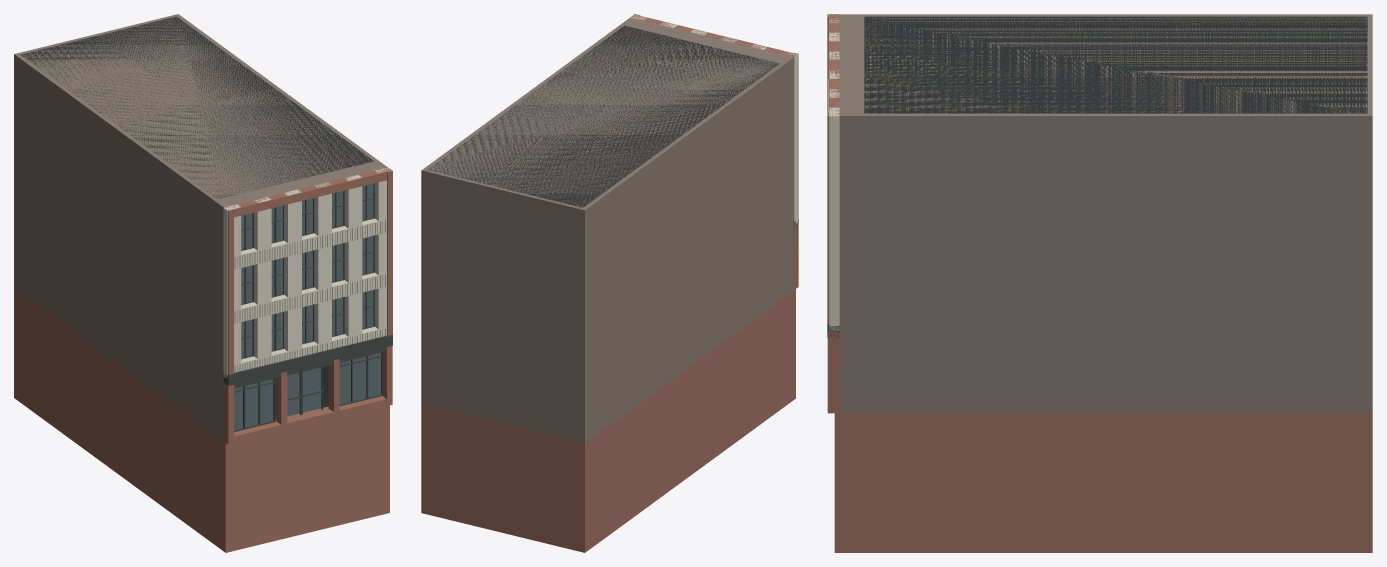
The model's file is west_washington_170.glb.
3 renders of one model, left to right at view 1: azimuth 30°, elevation 25°; view 2: azimuth 150°, elevation 25°; view 3: azimuth 270°, elevation 25°, orthographic. The views are drawn at different scales.
Visible parts, largest first — view 1: Unsurveyed party and rear masonry, Red brick piers and spandrels, Opaque interior backing, Pale projecting panels and stone, Separate recessed opaque window panes, Physical dark sash and storefront frames; view 2: Unsurveyed party and rear masonry, Red brick piers and spandrels, Opaque interior backing, Pale projecting panels and stone; view 3: Unsurveyed party and rear masonry, Red brick piers and spandrels, Opaque interior backing, Pale projecting panels and stone.
Boxes of the visible parts, box(x1,y1,x2,y2) form: Unsurveyed party and rear masonry: box(14, 14, 387, 440); Red brick piers and spandrels: box(14, 167, 392, 552); Opaque interior backing: box(20, 16, 373, 419); Pale projecting panels and stone: box(223, 167, 392, 378); Separate recessed opaque window panes: box(234, 183, 380, 429); Physical dark sash and storefront frames: box(223, 183, 392, 431); Unsurveyed party and rear masonry: box(421, 17, 795, 443); Red brick piers and spandrels: box(421, 14, 798, 552); Opaque interior backing: box(428, 25, 779, 207); Pale projecting panels and stone: box(630, 14, 798, 223); Unsurveyed party and rear masonry: box(834, 14, 1372, 413); Red brick piers and spandrels: box(827, 14, 1372, 552); Opaque interior backing: box(864, 16, 1367, 113); Pale projecting panels and stone: box(828, 14, 839, 330).
Size of the model in its own units: 12.55 by 25 by 28.26.
